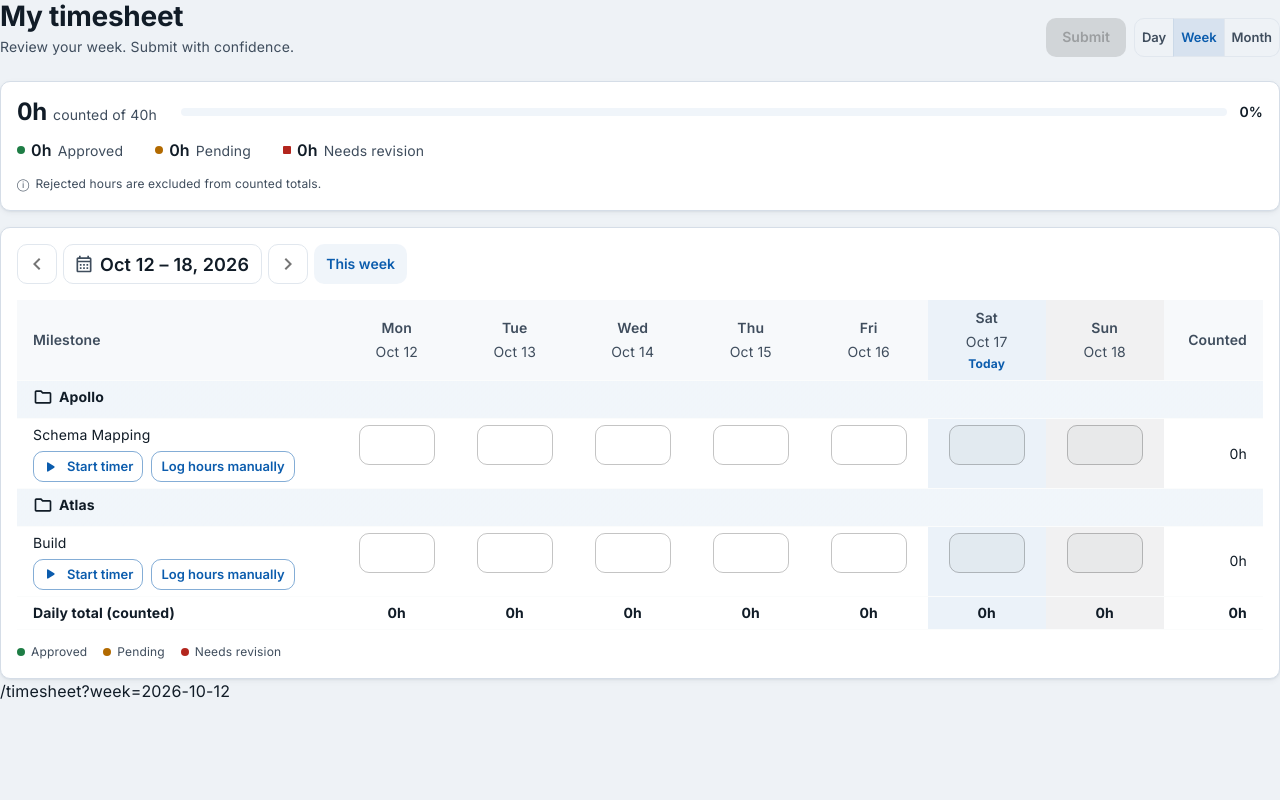
Test case: Timesheet rules › the server's refusal is shown clearly
Step 1. Type "4" into the field named "Build, Wed Oct 14" → (633, 553), box [595,533,671,573]
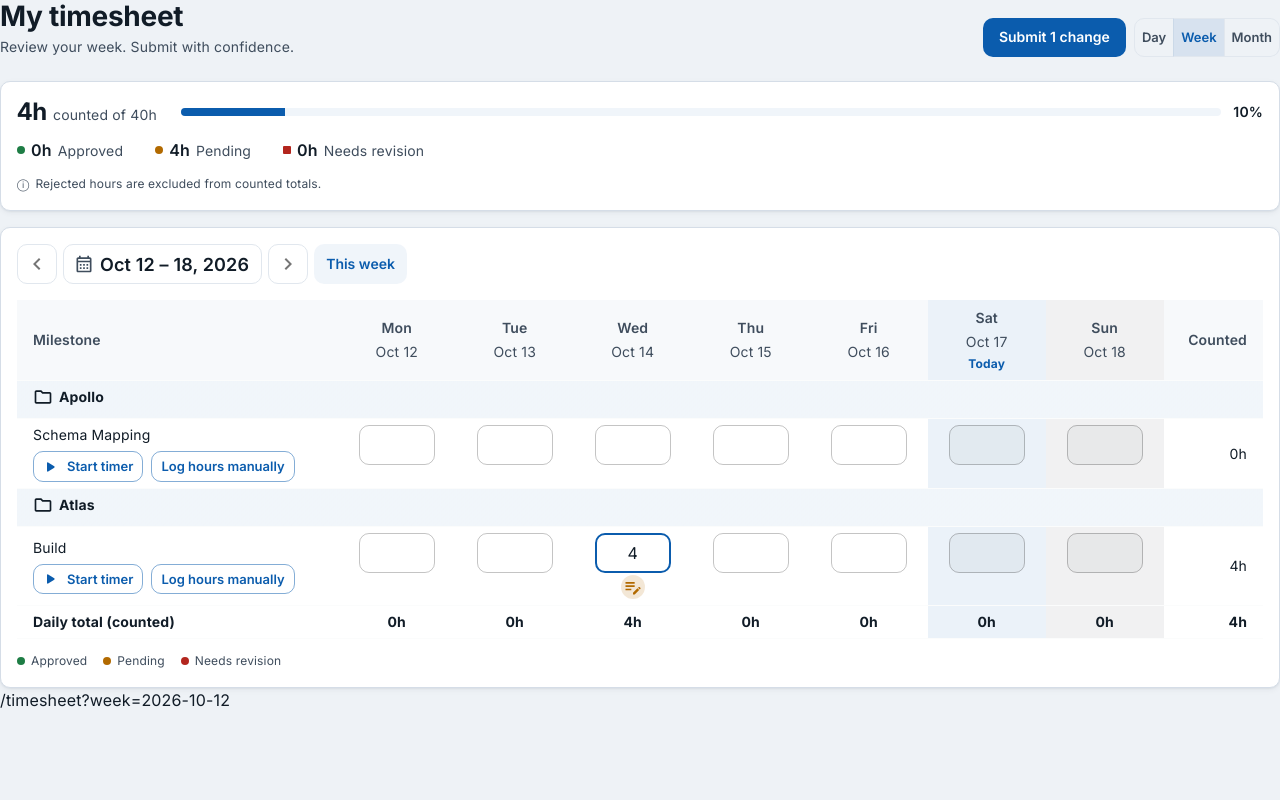
Step 2. Click the button "Submit 1 change" → (1054, 37), box [983,18,1126,57]
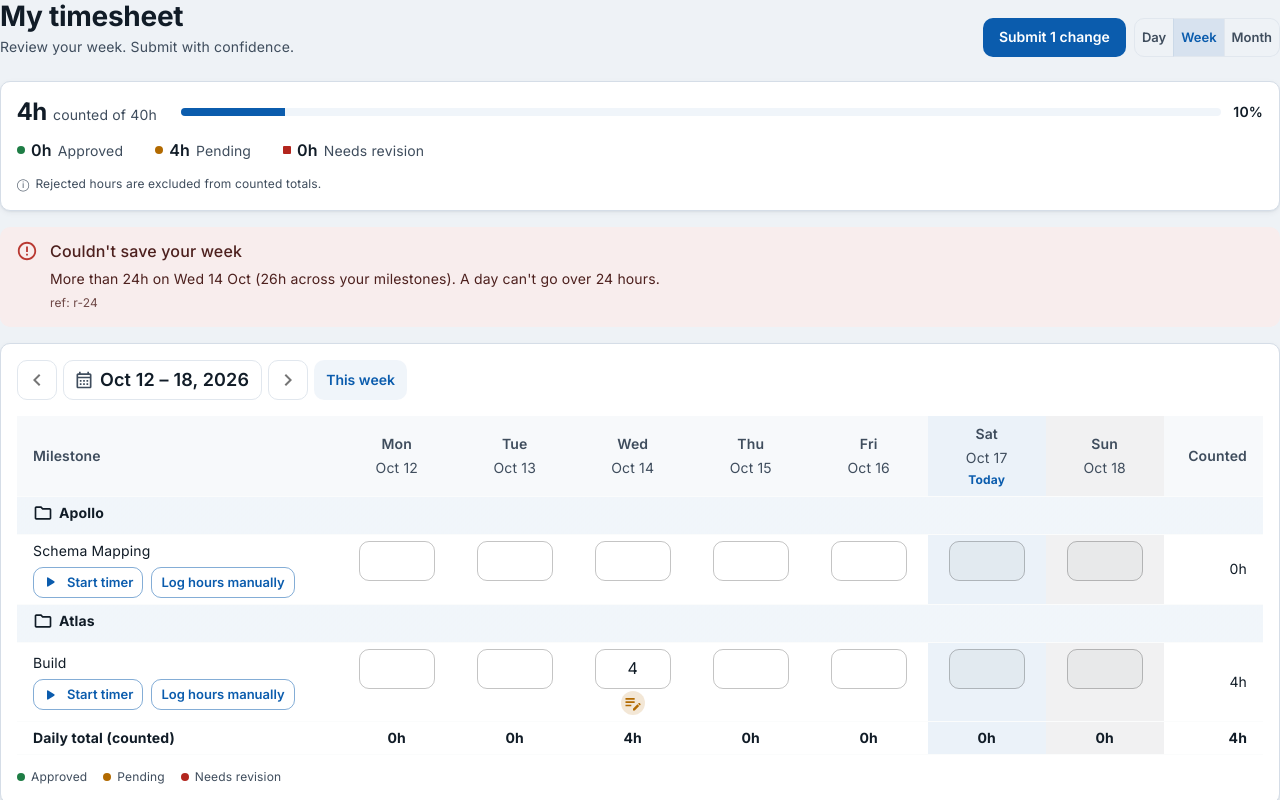
Expected: the message shows "Couldn't save your week", [50,241,242,261]
Expected: the message shows "More than 24h on Wed 14 Oct (26h across your milestones)", [50,270,660,287]
Expected: the message shows "r-24", [73,295,98,310]
